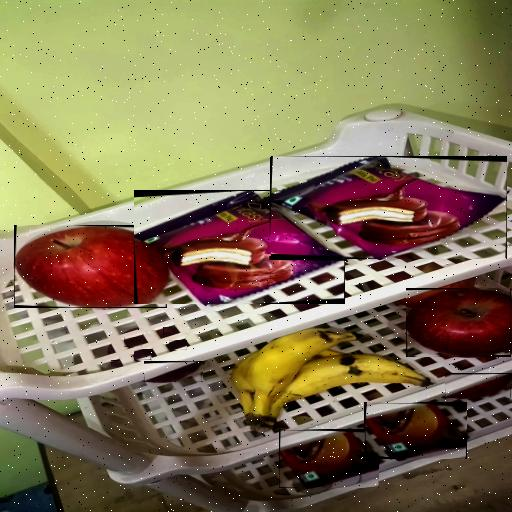Apple: (15, 226, 167, 308), (406, 289, 511, 356), (446, 374, 511, 398), (145, 361, 202, 382), (134, 349, 151, 360), (169, 340, 187, 350), (125, 337, 142, 347), (112, 361, 119, 367), (163, 328, 170, 334)
Choco Fills: (279, 432, 379, 487), (365, 404, 466, 458)
Choco Pie: (134, 191, 345, 304), (271, 158, 507, 258)
